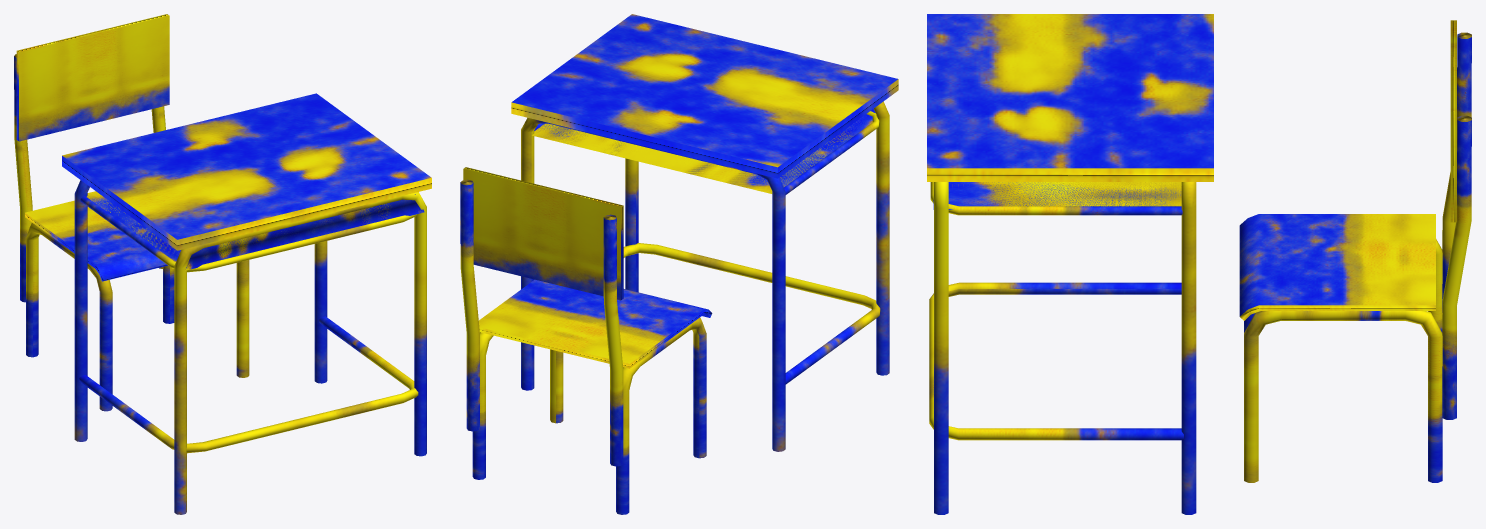
3 renders of one model, left to right at view 1: azimuth 30°, elevation 25°; view 2: azimuth 150°, elevation 25°; view 3: azimuth 270°, elevation 25°, orthographic. The views are drawn at different scales.
Visible parts, largest first — view 1: pMesh1; view 2: pMesh1; view 3: pMesh1.
Part boxes in pixels (bbox=[...]): pMesh1: bbox=[14, 14, 431, 514]; pMesh1: bbox=[460, 14, 898, 514]; pMesh1: bbox=[927, 14, 1471, 514].
Size of the model in its own units: 1.34 by 1.51 by 2.
